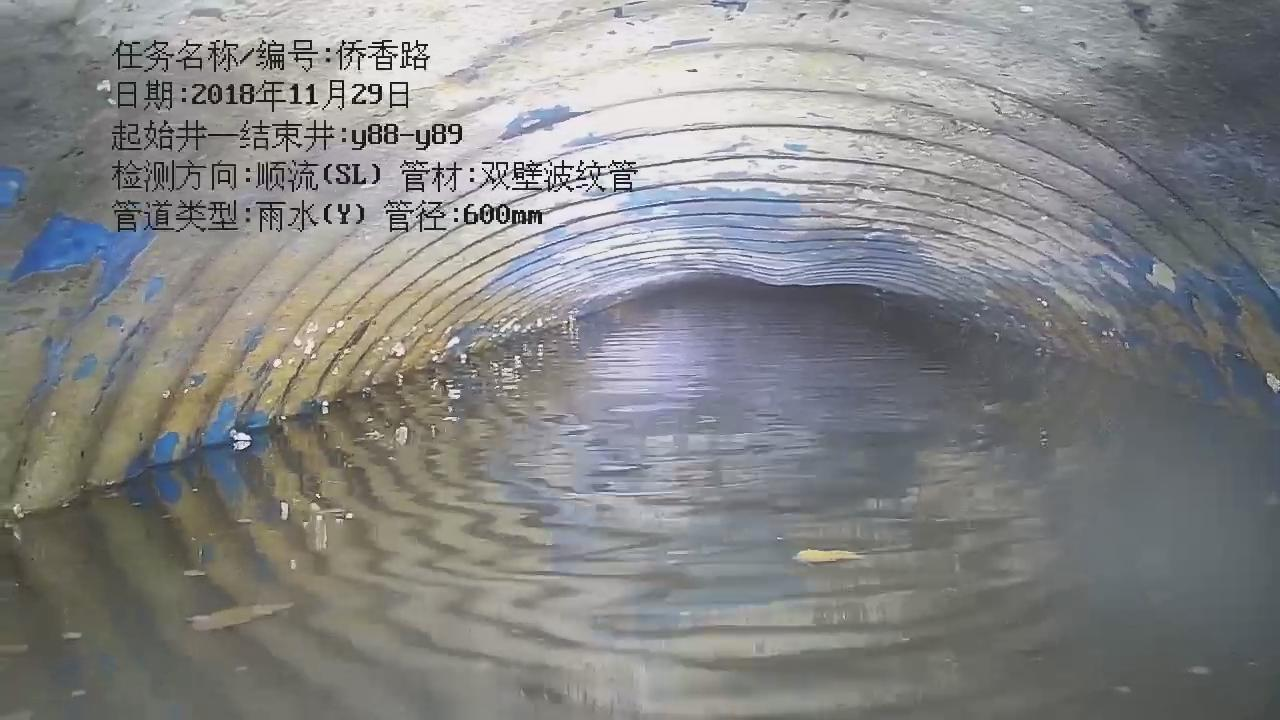BX: (718, 213, 999, 326)
